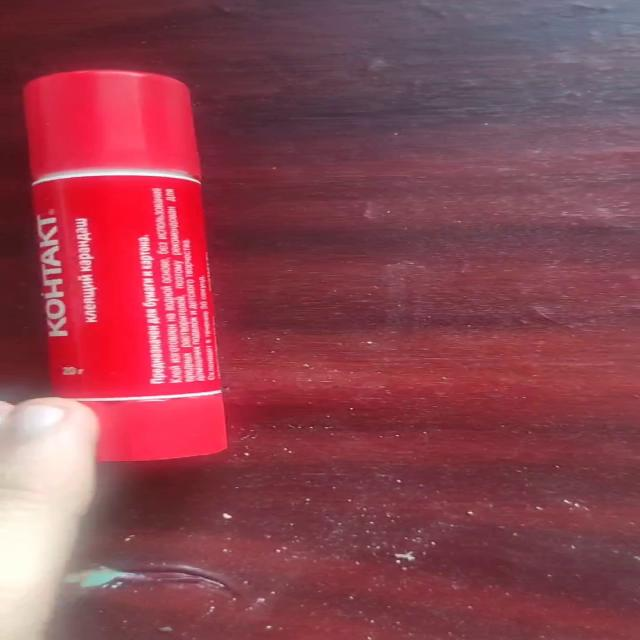glue: (22, 68, 228, 462)
